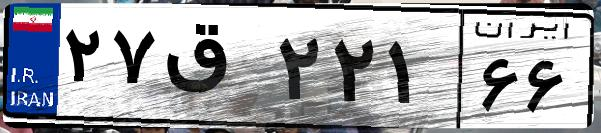1: (385, 28, 445, 110)
2: (270, 28, 330, 110), (330, 28, 385, 110), (57, 26, 110, 100)
6: (475, 38, 525, 113), (525, 38, 570, 115)
7: (110, 28, 158, 98)
ق: (158, 20, 270, 120)
